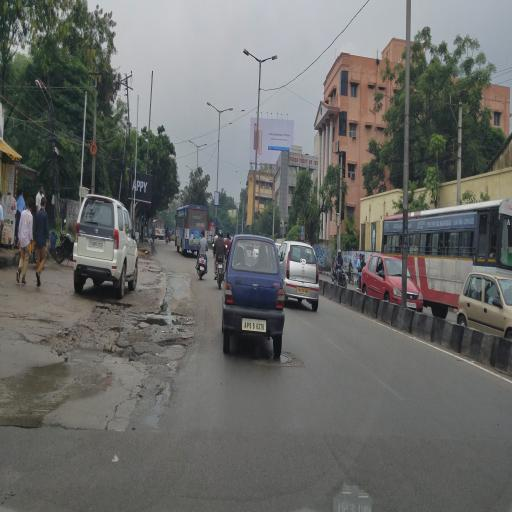street_light_0: (238, 44, 264, 80), (258, 43, 284, 74), (204, 93, 222, 123), (183, 133, 199, 156), (219, 100, 239, 118), (197, 135, 210, 154)
